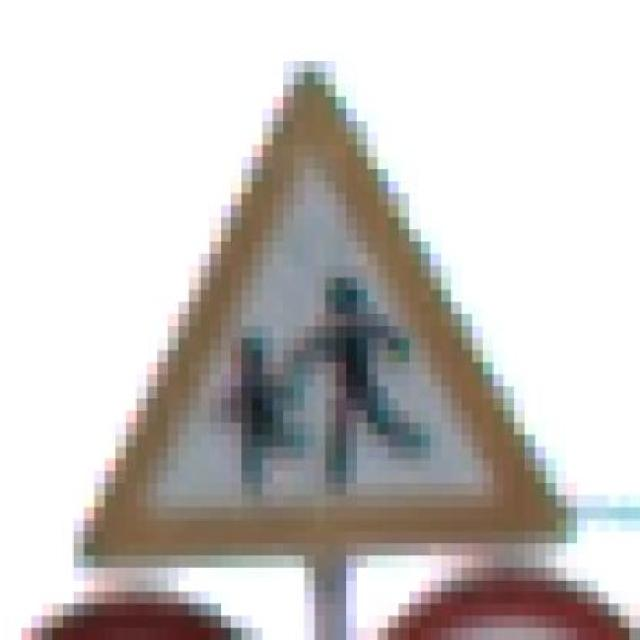Beware of children: (63, 60, 577, 568)
